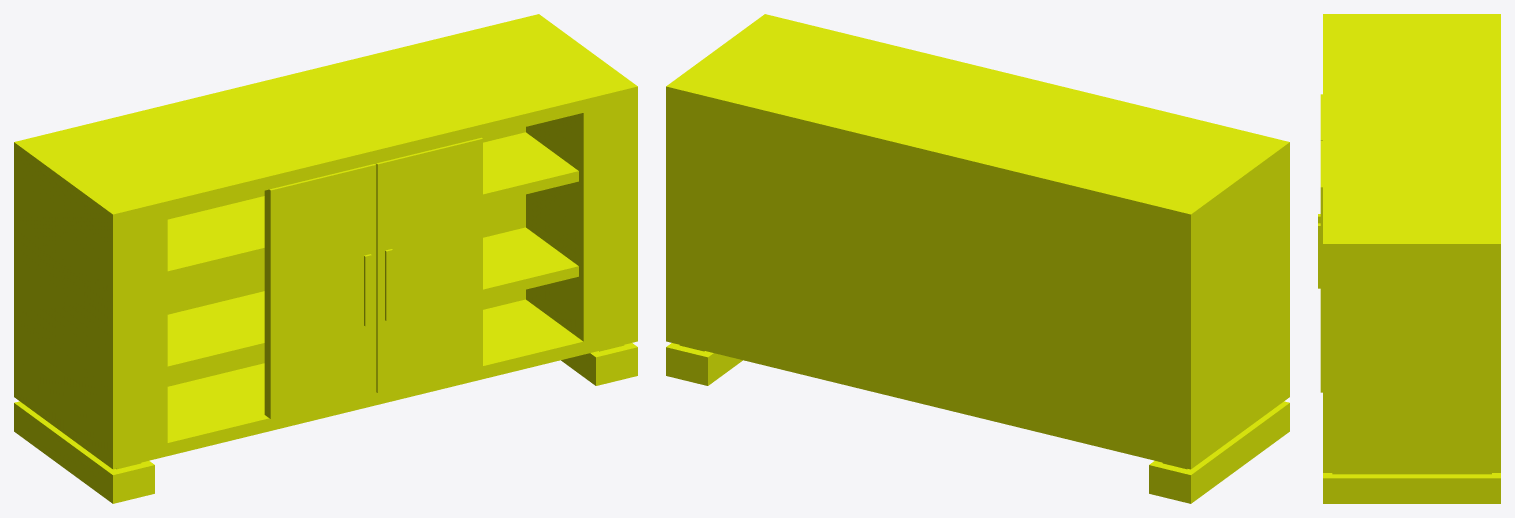
File: Cupboard2.FBX
3 views of the same model, side by side, from view 1: azimuth 30°, elevation 25°; view 2: azimuth 150°, elevation 25°; view 3: azimuth 270°, elevation 25° (orthographic). The views are drawn at different scales.
Visible parts, largest first — view 1: Box020; view 2: Box020; view 3: Box020.
Boxes of the visible parts, bbox=[...] form: Box020: bbox=[14, 14, 637, 503]; Box020: bbox=[666, 14, 1289, 503]; Box020: bbox=[1318, 14, 1500, 503].
Size of the model in its own units: 3.39 by 1.79 by 1.14.
